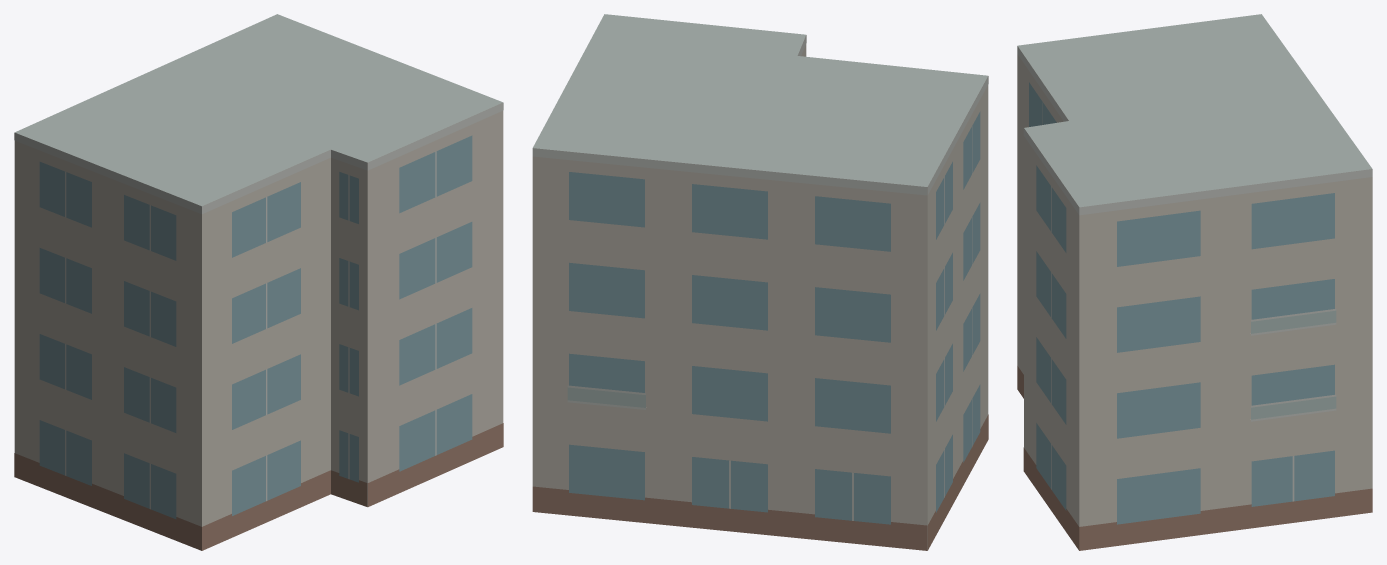
The model's file is survey-upis-32779436.glb.
3 views of the same model, side by side, from view 1: azimuth 30°, elevation 25°; view 2: azimuth 150°, elevation 25°; view 3: azimuth 270°, elevation 25° (orthographic). The views are drawn at different scales.
Parts seen in each view (by area): view 1: survey-upis-32779436.tmp; view 2: survey-upis-32779436.tmp; view 3: survey-upis-32779436.tmp.
Boxes of the visible parts, bbox=[...] form: survey-upis-32779436.tmp: bbox=[14, 14, 503, 550]; survey-upis-32779436.tmp: bbox=[532, 14, 988, 550]; survey-upis-32779436.tmp: bbox=[1017, 14, 1372, 550].
Bounding box in the file's own units: 12.69 × 10.5 × 9.85.
